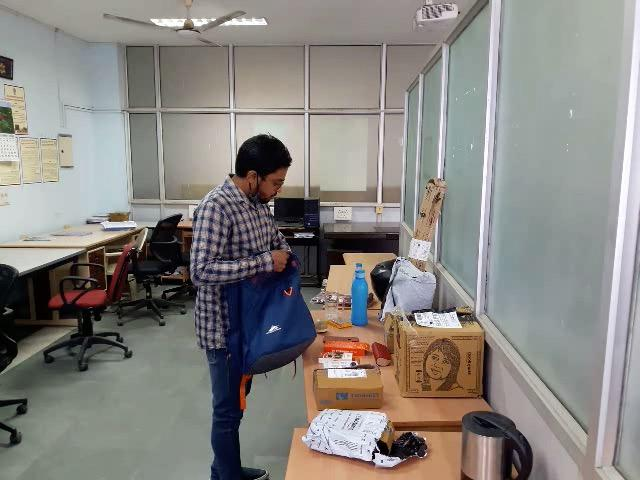shoplifting: (166, 232, 335, 377)
